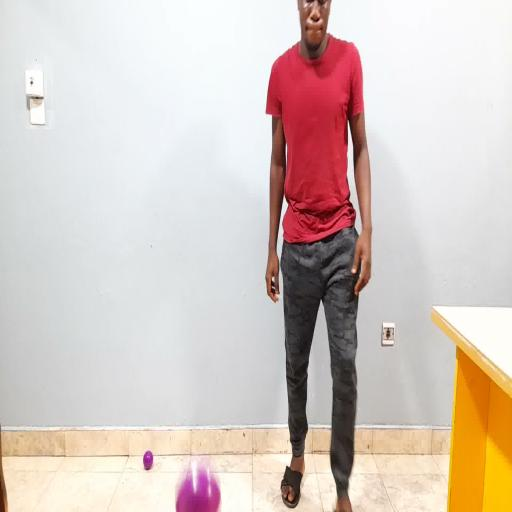plastic-ball: (176, 462, 220, 511)
